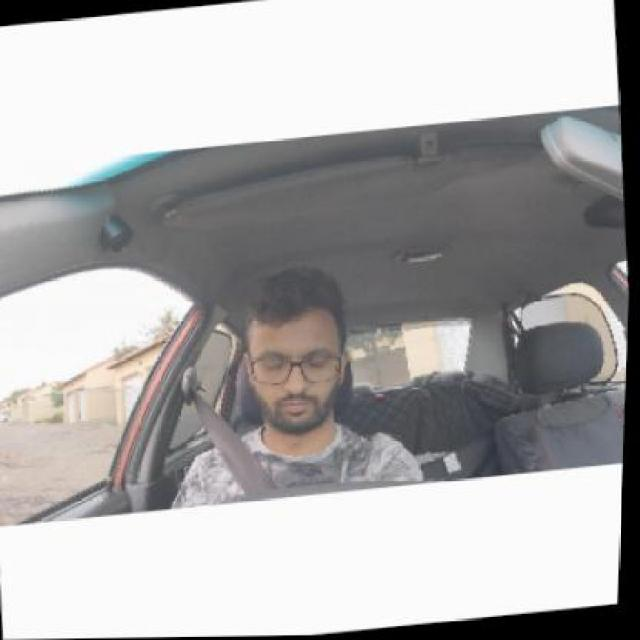drowsy: (236, 270, 351, 439)
